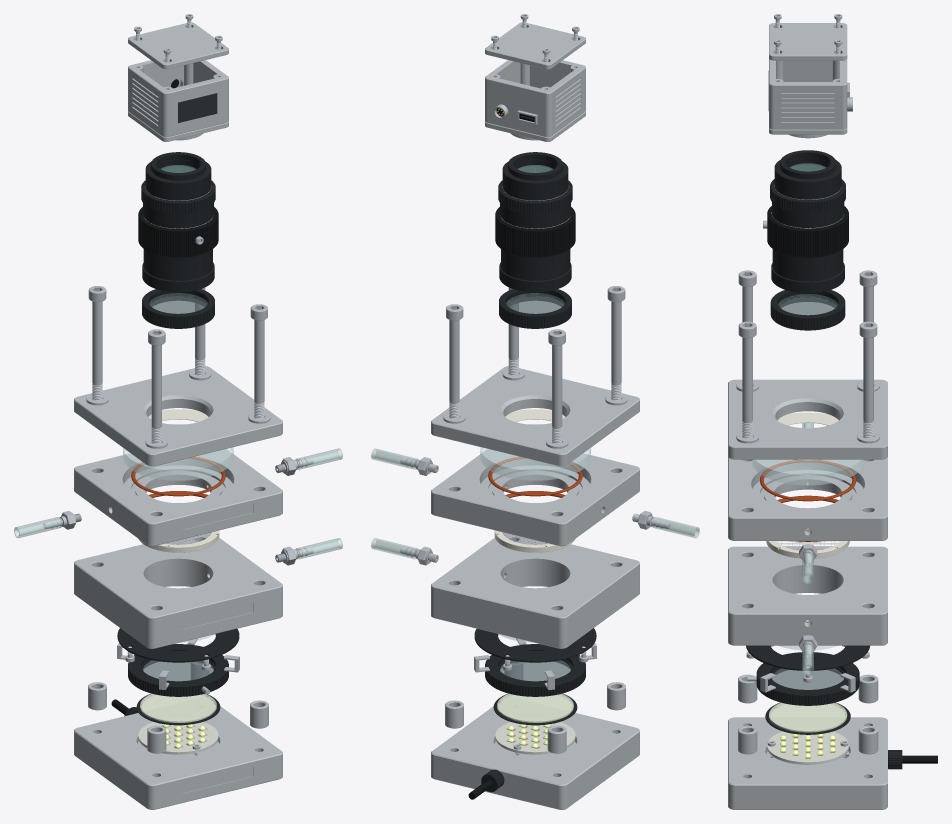
File: fouling_cell_exploded.glb
The picture shows the model from 3 angles, left to right: view 1: azimuth 30°, elevation 25°; view 2: azimuth 150°, elevation 25°; view 3: azimuth 270°, elevation 25°; orthographic projection. The views are drawn at different scales.
Visible parts, largest first — view 1: 02_filtrate_chamber, 01_flow_chamber, 11_led_heat_sink, 03_window_retainer, 22_camera_housing, 23_camera_rear_cover, 19_focus_ring, 12_polariser_rotation_ring, 04_upper_quartz_window, lens_rear_barrel, 16_analyser_rotation_ring, 10_lower_window_retainer (+16 smaller); view 2: 02_filtrate_chamber, 01_flow_chamber, 11_led_heat_sink, 03_window_retainer, 22_camera_housing, 23_camera_rear_cover, 19_focus_ring, 12_polariser_rotation_ring, 04_upper_quartz_window, lens_rear_barrel, 16_analyser_rotation_ring, 10_lower_window_retainer (+15 smaller); view 3: 02_filtrate_chamber, 01_flow_chamber, 03_window_retainer, 11_led_heat_sink, 22_camera_housing, 23_camera_rear_cover, 19_focus_ring, 04_upper_quartz_window, 12_polariser_rotation_ring, lens_rear_barrel, 16_analyser_rotation_ring, 15_diffuser (+22 smaller).
Part boxes in pixels (x1=…): 02_filtrate_chamber: x1=74, y1=532, x2=282, y2=648; 01_flow_chamber: x1=74, y1=449, x2=282, y2=546; 11_led_heat_sink: x1=74, y1=706, x2=282, y2=809; 03_window_retainer: x1=74, y1=366, x2=282, y2=466; 22_camera_housing: x1=128, y1=60, x2=228, y2=137; 23_camera_rear_cover: x1=128, y1=22, x2=228, y2=69; 19_focus_ring: x1=138, y1=207, x2=218, y2=257; 12_polariser_rotation_ring: x1=128, y1=644, x2=228, y2=696; 04_upper_quartz_window: x1=123, y1=424, x2=233, y2=480; lens_rear_barrel: x1=145, y1=159, x2=211, y2=200; 16_analyser_rotation_ring: x1=142, y1=289, x2=214, y2=328; 10_lower_window_retainer: x1=117, y1=628, x2=239, y2=662; 02_filtrate_chamber: x1=431, y1=532, x2=639, y2=648; 01_flow_chamber: x1=431, y1=449, x2=639, y2=546; 11_led_heat_sink: x1=431, y1=706, x2=639, y2=809; 03_window_retainer: x1=431, y1=366, x2=639, y2=466; 22_camera_housing: x1=485, y1=60, x2=585, y2=137; 23_camera_rear_cover: x1=485, y1=22, x2=585, y2=69; 19_focus_ring: x1=495, y1=207, x2=575, y2=257; 12_polariser_rotation_ring: x1=485, y1=644, x2=585, y2=696; 04_upper_quartz_window: x1=480, y1=424, x2=590, y2=480; lens_rear_barrel: x1=502, y1=159, x2=568, y2=200; 16_analyser_rotation_ring: x1=499, y1=289, x2=571, y2=328; 10_lower_window_retainer: x1=474, y1=628, x2=596, y2=662; 02_filtrate_chamber: x1=728, y1=546, x2=887, y2=645; 01_flow_chamber: x1=728, y1=457, x2=887, y2=540; 03_window_retainer: x1=728, y1=379, x2=887, y2=459; 11_led_heat_sink: x1=728, y1=717, x2=887, y2=809; 22_camera_housing: x1=769, y1=59, x2=847, y2=129; 23_camera_rear_cover: x1=769, y1=23, x2=847, y2=60; 19_focus_ring: x1=767, y1=206, x2=848, y2=257; 04_upper_quartz_window: x1=751, y1=427, x2=864, y2=485; 12_polariser_rotation_ring: x1=756, y1=652, x2=859, y2=705; lens_rear_barrel: x1=774, y1=157, x2=841, y2=199; 16_analyser_rotation_ring: x1=770, y1=290, x2=845, y2=330; 15_diffuser: x1=769, y1=702, x2=847, y2=732.
Size of the model in its own units: 0.214 by 0.4644 by 0.118.
